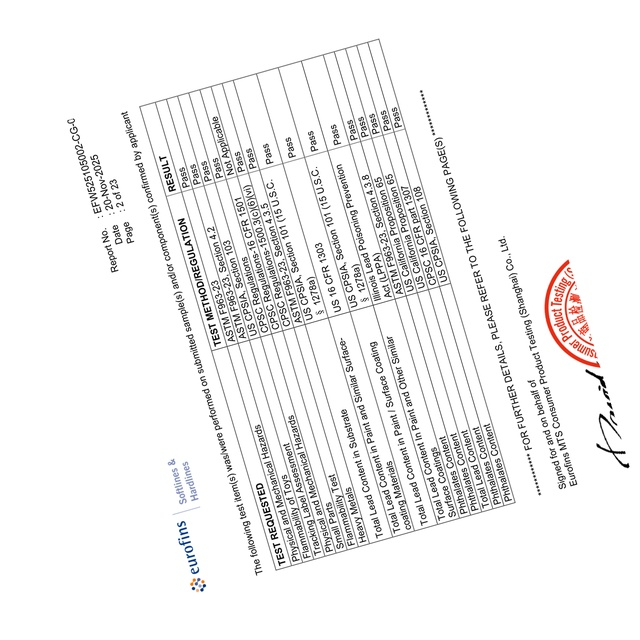eurofins: (172, 515, 211, 598)
